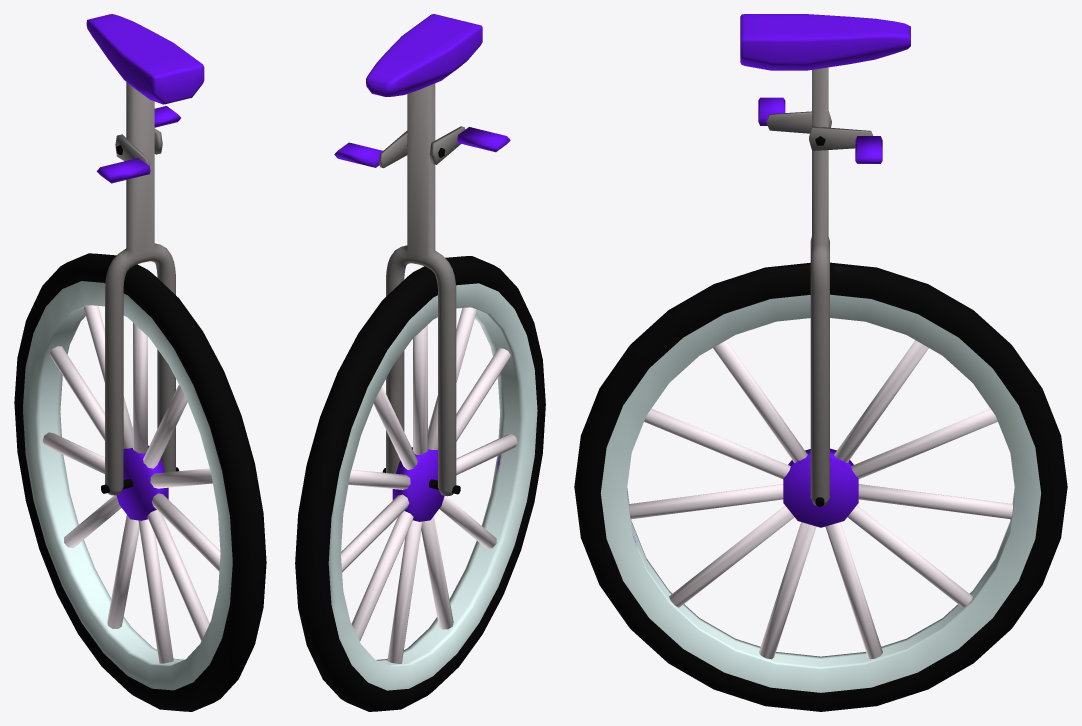
Rendered from Unicycle.fbx.
3 views of the same model, side by side, from view 1: azimuth 30°, elevation 25°; view 2: azimuth 150°, elevation 25°; view 3: azimuth 270°, elevation 25° (orthographic). The views are drawn at different scales.
Parts seen in each view (by area): view 1: Cylinder001; view 2: Cylinder001; view 3: Cylinder001.
Boxes of the visible parts, box(x1,y1,x2,y2) form: Cylinder001: box(14, 14, 266, 711); Cylinder001: box(295, 14, 545, 711); Cylinder001: box(574, 14, 1067, 711).
Size of the model in its own units: 116 by 611 by 399.
1 material, 1 textured.
